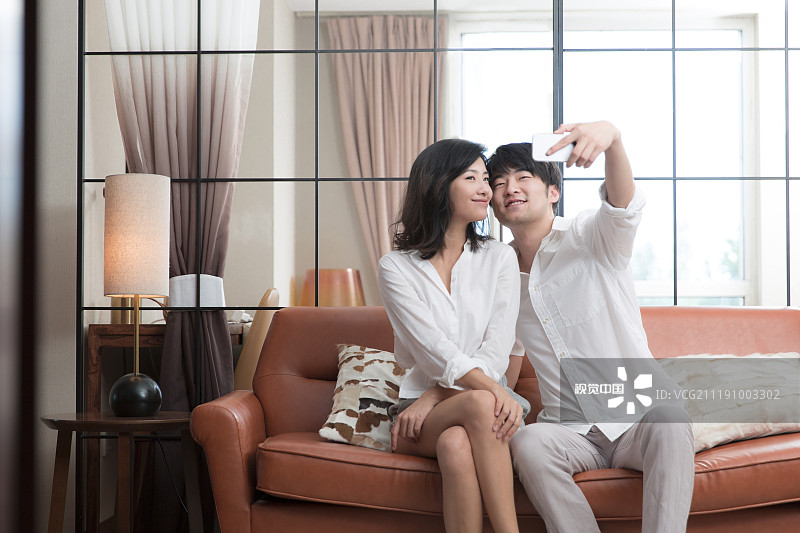taking photos: (525, 101, 633, 183)
